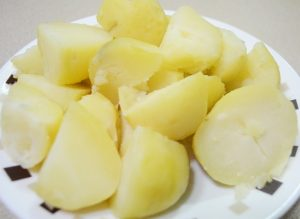boiled potatoes: (17, 16, 291, 204)
